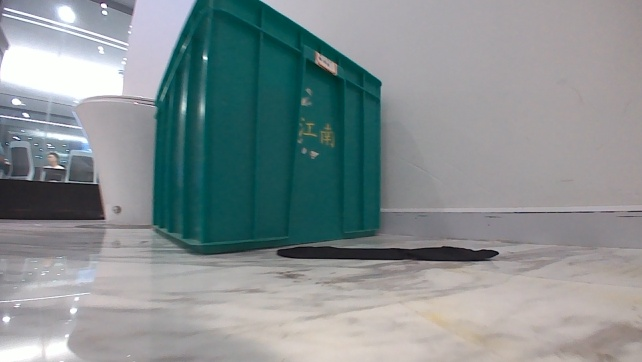socks: (271, 243, 503, 261)
toilet: (69, 90, 155, 228)
